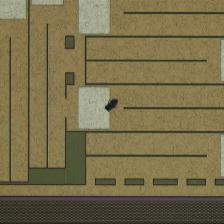PARTICLE: (104, 97, 121, 114)
